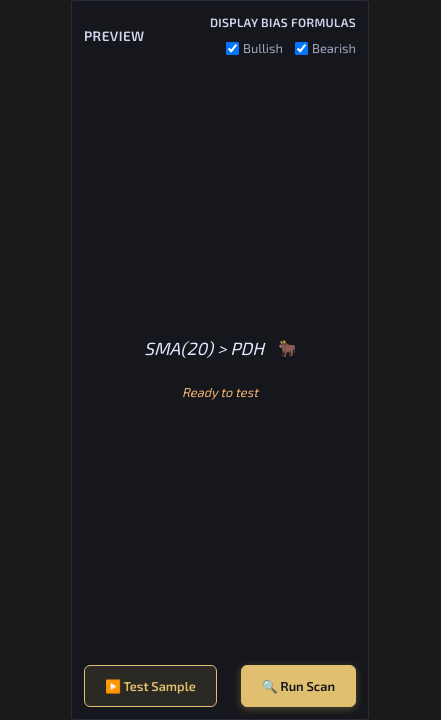
Test case: PreviewSection Component - Error Handling › Scan Button Error Handling (handleFullScan) › shows unable to scan error when completedFormulas is null
The width and height of the screenshot is (441, 720).
Click the button "🔍 Run Scan". click: point(298, 686)
box: [241,665,356,707]
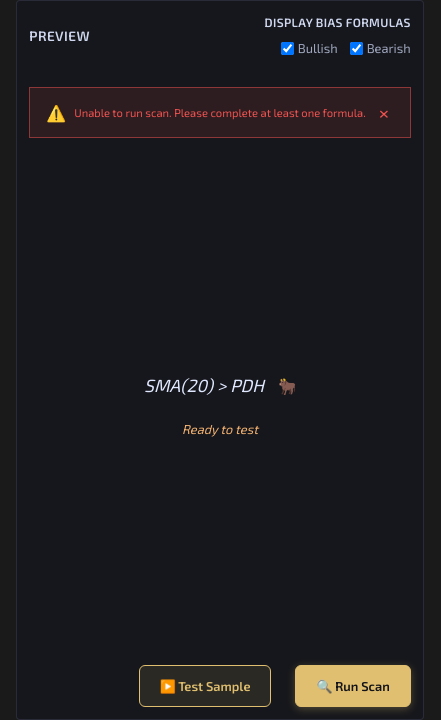
Expected: the text "Unable to run scan. Please complete at least one formula." is shown, [74,105,366,120]
